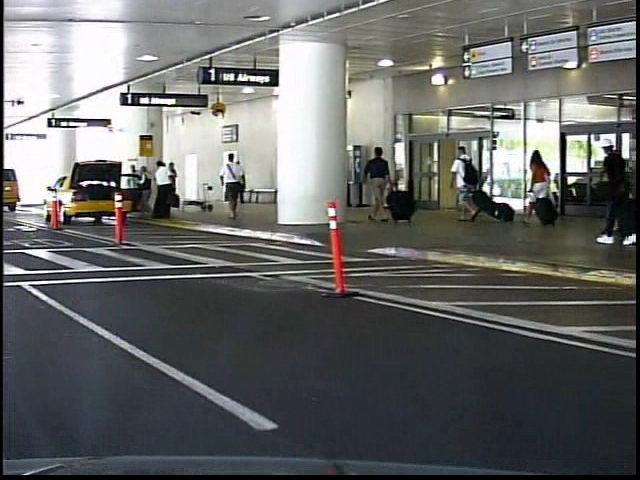person: (587, 136, 634, 248), (444, 141, 481, 226), (517, 143, 552, 229), (360, 142, 392, 227), (214, 147, 246, 220), (213, 163, 235, 210)
